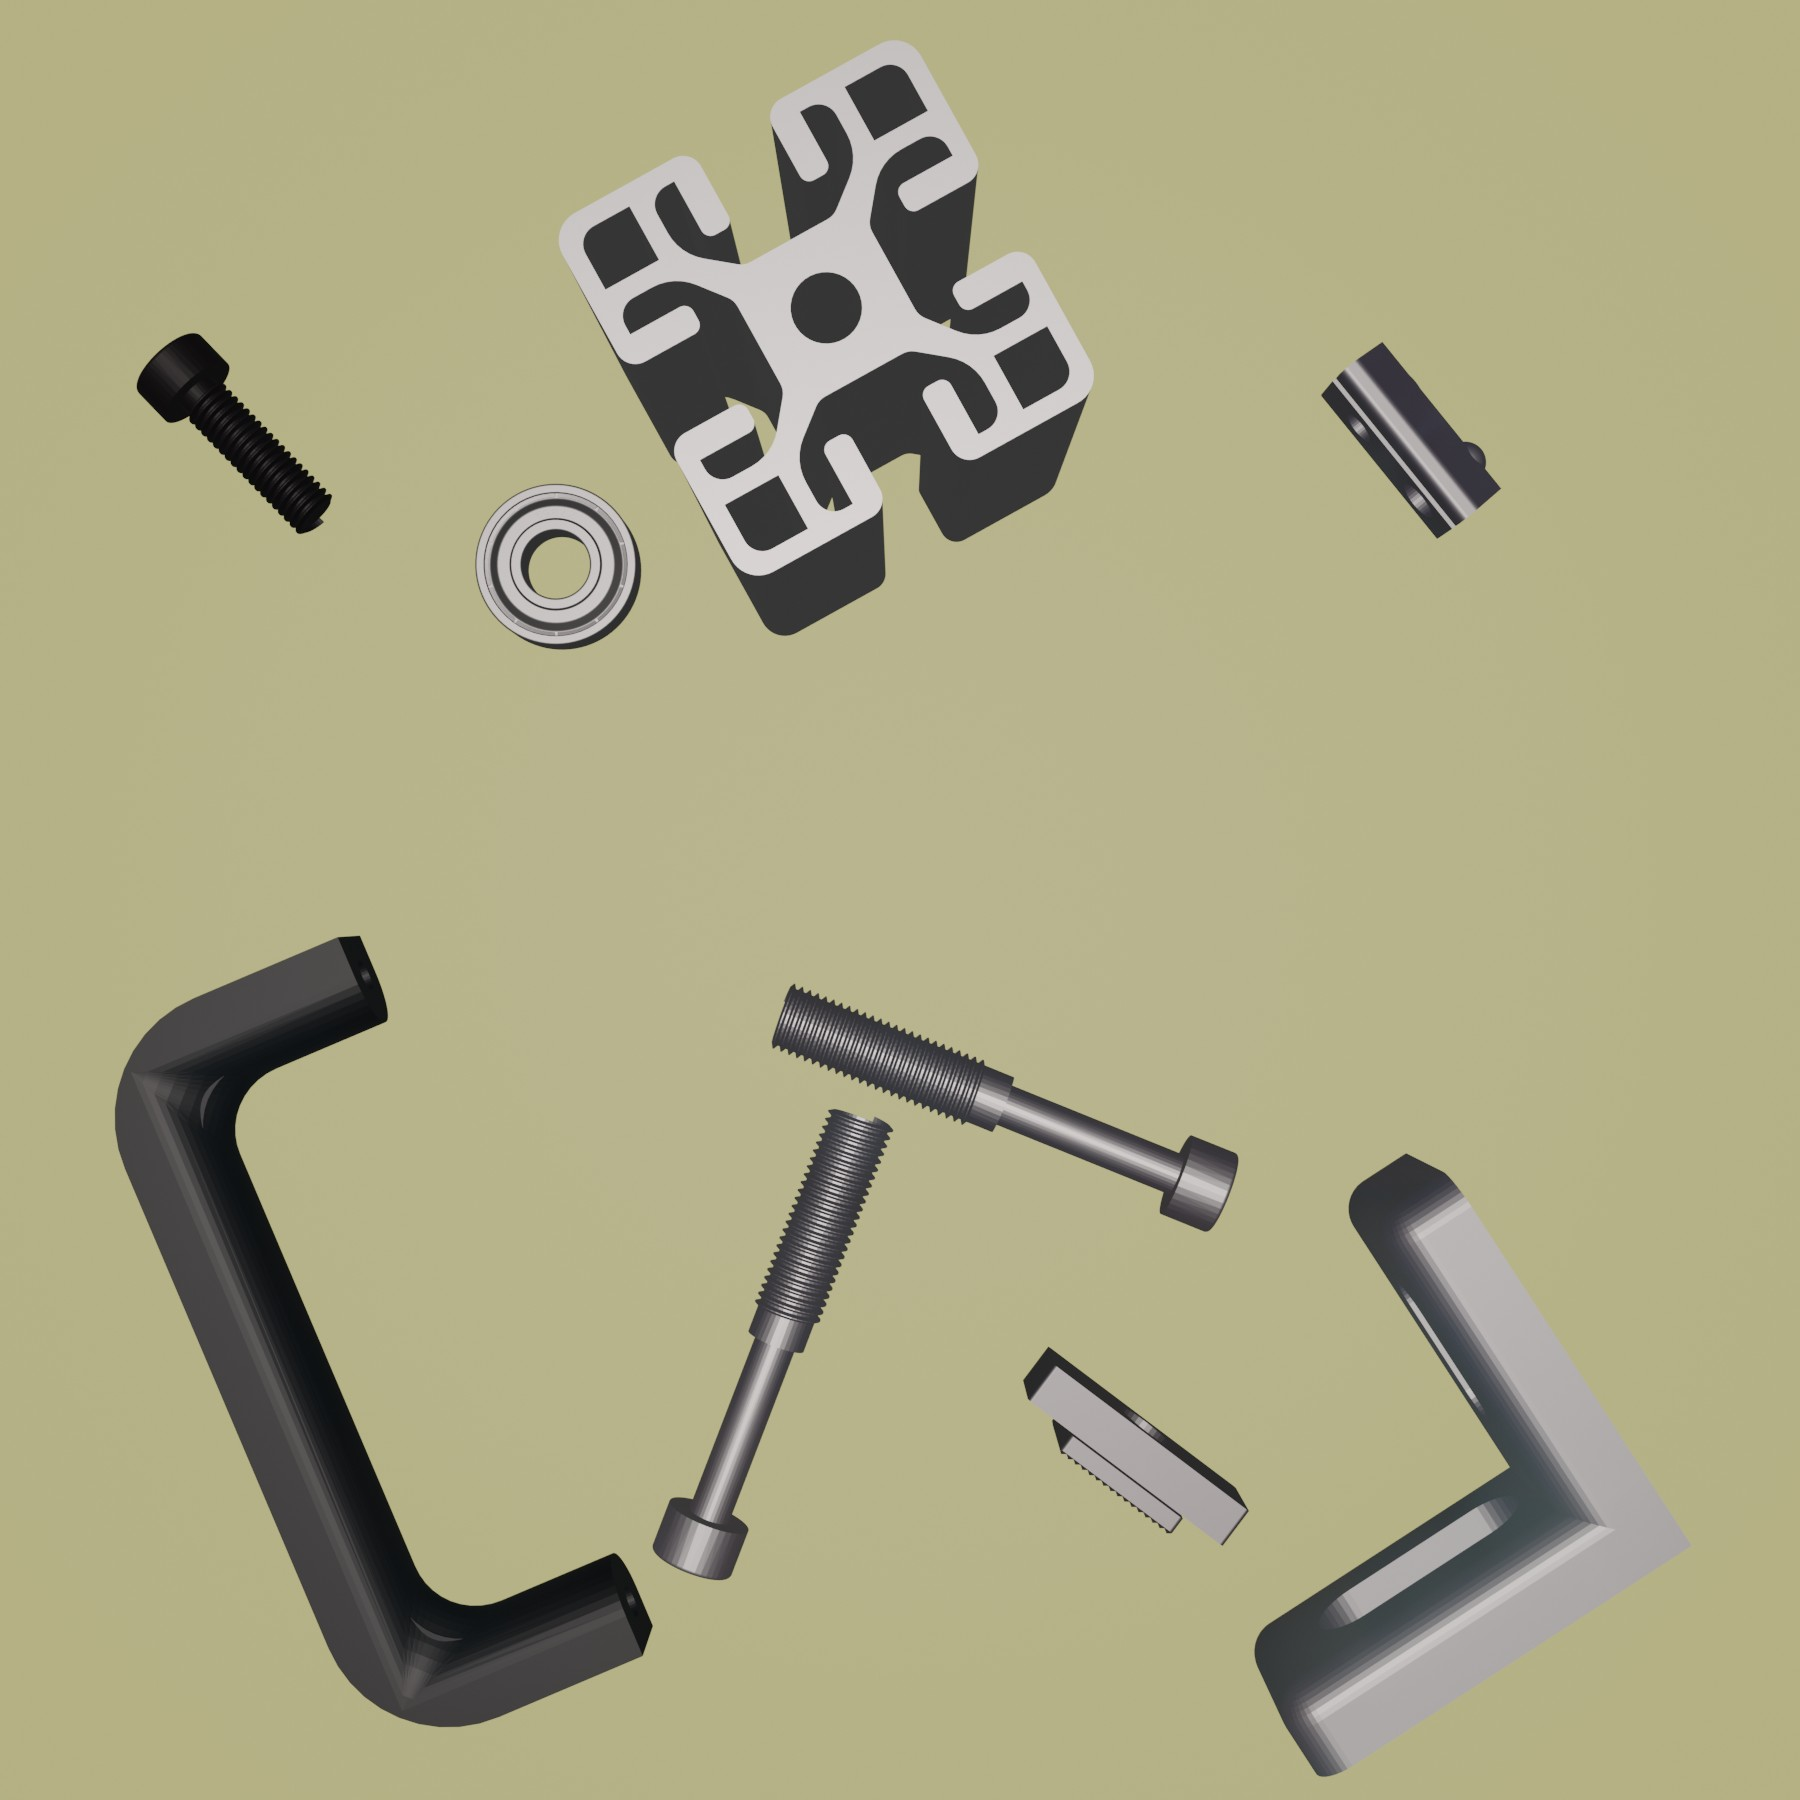Aluminium Extension: (555, 35, 1096, 640)
Ball Bearing: (471, 480, 641, 651)
Multiwinkel: (1251, 1151, 1698, 1779)
Pull Handle: (110, 931, 656, 1731)
Shoulder Socket Head Cap Screw: (766, 977, 1240, 1231), (649, 1104, 893, 1582)
Socket Head Cap Screw: (132, 330, 333, 536)
T Nut Square: (1020, 1342, 1248, 1551)
T Spring Nut: (1317, 336, 1503, 542)
